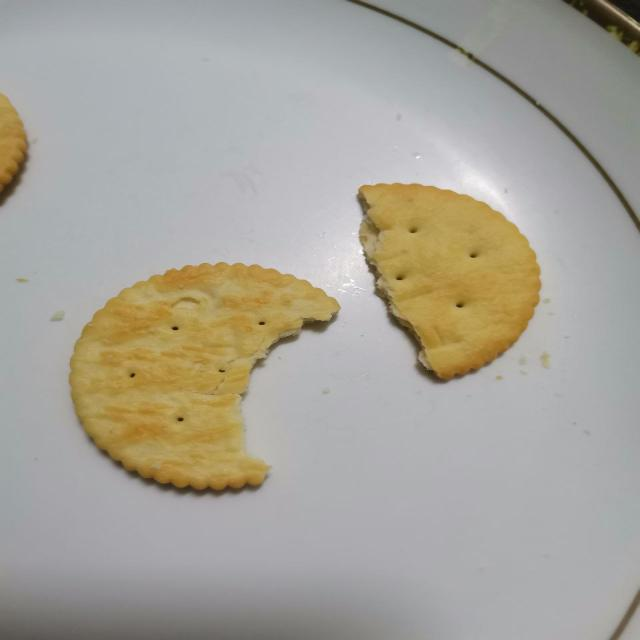broken biscuit: (67, 260, 340, 492), (354, 180, 542, 381)
